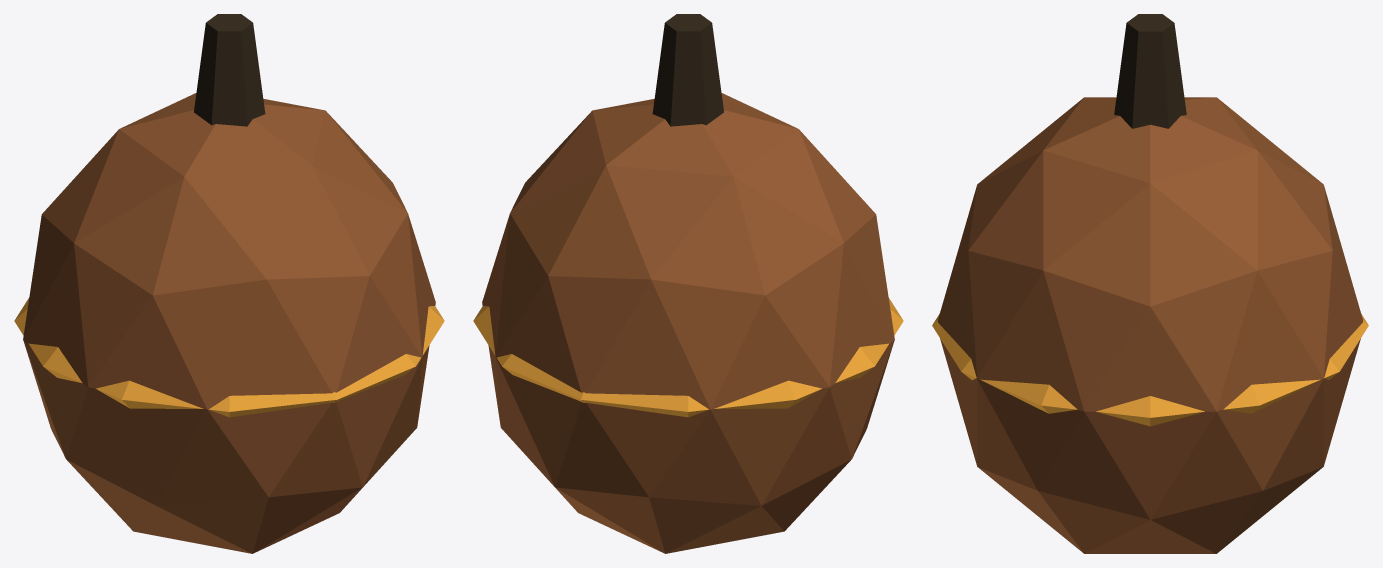
The picture shows the model from 3 angles, left to right: view 1: azimuth 30°, elevation 25°; view 2: azimuth 150°, elevation 25°; view 3: azimuth 270°, elevation 25°; orthographic projection.
Visible parts, largest first — view 1: Seed shell, Resin band, Fuse; view 2: Seed shell, Resin band, Fuse; view 3: Seed shell, Fuse, Resin band.
Part boxes in pixels (x1,y1,x2,y2): Seed shell: (23,93,435,553); Resin band: (14,297,444,417); Fuse: (194,14,265,126); Seed shell: (482,93,894,553); Resin band: (473,297,903,417); Fuse: (652,14,723,126); Seed shell: (938,97,1362,553); Fuse: (1114,14,1186,128); Resin band: (932,314,1368,426).
Bounding box in the file's own units: 0.51 × 0.6775 × 0.51.
